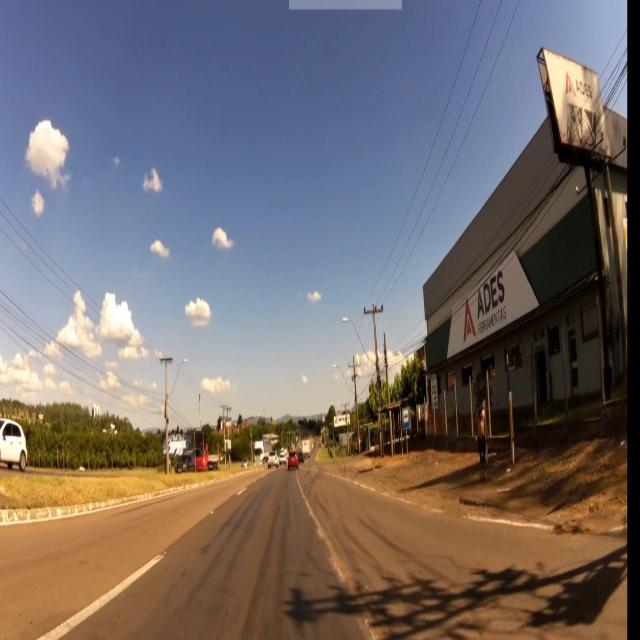S-14: (403, 408, 410, 430)
